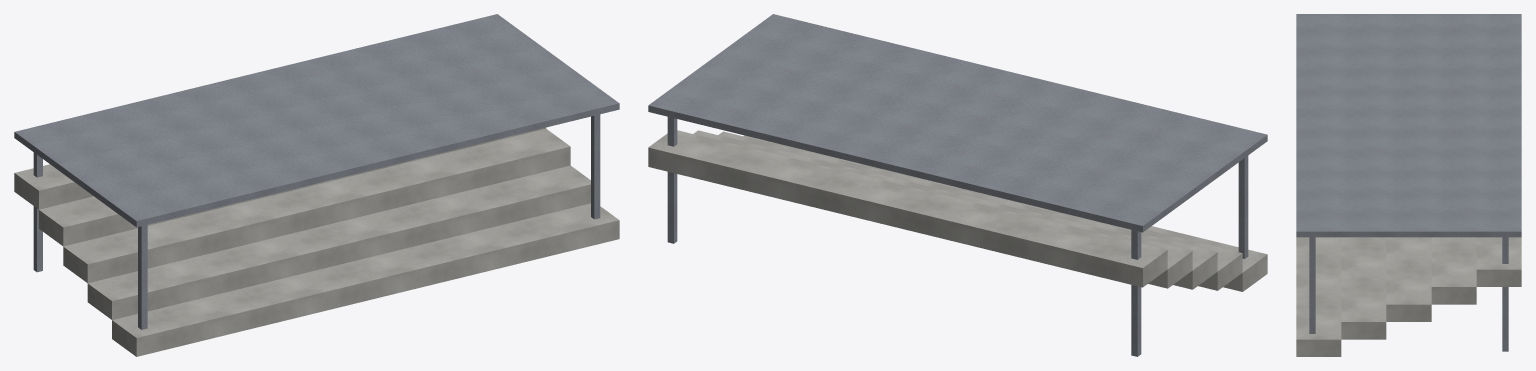
Rendered from obj-prefab-grandstand-concrete.glb.
3 views of the same model, side by side, from view 1: azimuth 30°, elevation 25°; view 2: azimuth 150°, elevation 25°; view 3: azimuth 270°, elevation 25° (orthographic). The views are drawn at different scales.
Parts seen in each view (by area): view 1: prefab_grandstand; view 2: prefab_grandstand; view 3: prefab_grandstand.
Boxes of the visible parts, x1=… form: prefab_grandstand: x1=14, y1=14, x2=619, y2=356; prefab_grandstand: x1=648, y1=14, x2=1267, y2=356; prefab_grandstand: x1=1296, y1=14, x2=1521, y2=356.
Size of the model in its own units: 16 by 4.3 by 7.
Materials: 2 (2 with a texture image).
